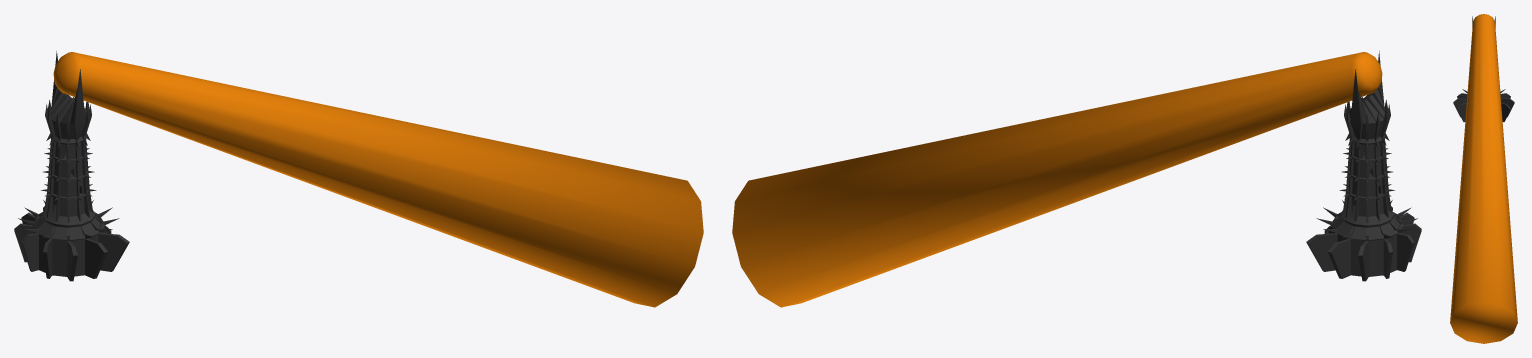
File: sauronTower.fbx
The picture shows the model from 3 angles, left to right: view 1: azimuth 30°, elevation 25°; view 2: azimuth 150°, elevation 25°; view 3: azimuth 270°, elevation 25°; orthographic projection. The views are drawn at different scales.
Visible parts, largest first — view 1: Sphere, Circle.022; view 2: Sphere, Circle.022; view 3: Sphere, Circle.022.
Part boxes in pixels (<box>): Sphere: <box>53,52,703,307</box>; Circle.022: <box>14,51,129,281</box>; Sphere: <box>732,52,1382,307</box>; Circle.022: <box>1306,51,1421,281</box>; Sphere: <box>1450,14,1517,343</box>; Circle.022: <box>1453,16,1514,122</box>.
Bounding box in the file's own units: 52.08 × 28.88 × 9.2.
